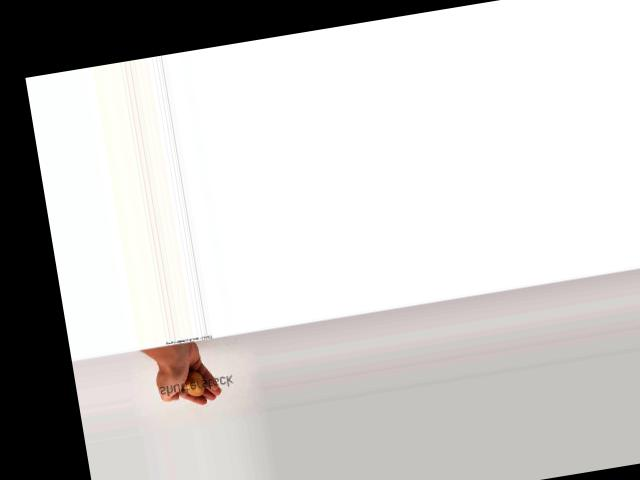egg: (181, 368, 206, 397)
